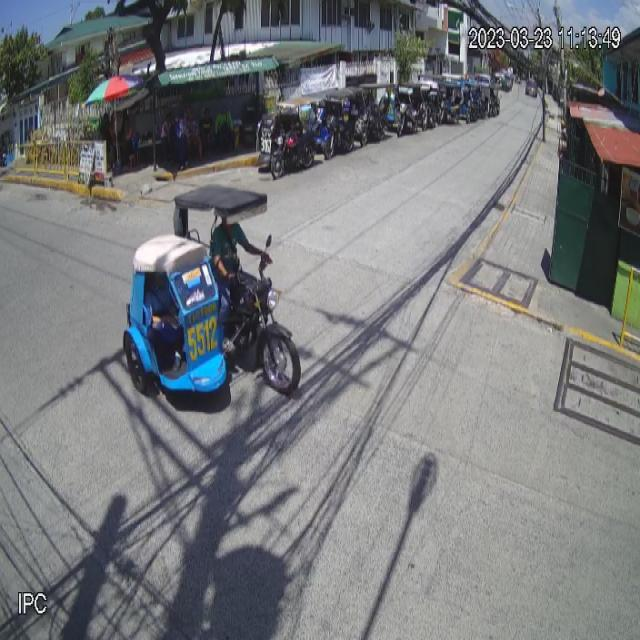Tricycle: (122, 183, 300, 403)
